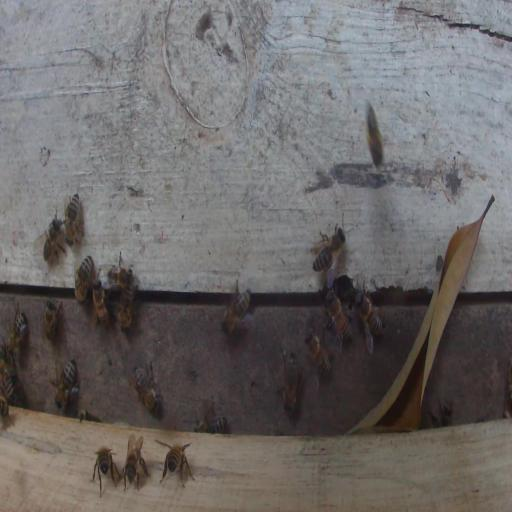nonpollenbee: (353, 282, 385, 354), (312, 222, 346, 285), (325, 288, 354, 352), (221, 276, 251, 336), (159, 440, 194, 489), (122, 433, 148, 491), (133, 360, 161, 412), (52, 358, 78, 411), (91, 446, 117, 497), (305, 330, 332, 379), (42, 213, 66, 267), (282, 351, 301, 412), (92, 278, 111, 331), (64, 191, 82, 246), (74, 254, 93, 304), (367, 101, 383, 160), (8, 307, 27, 355), (42, 298, 62, 342), (107, 264, 134, 289), (119, 288, 134, 332), (195, 415, 227, 433), (1, 395, 14, 428), (1, 367, 14, 398), (439, 401, 453, 426), (5, 421, 6, 424)
